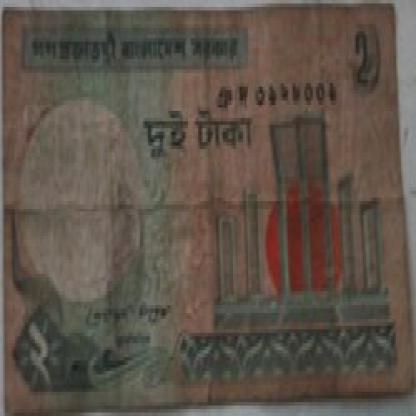two taka: (140, 104, 260, 170), (18, 298, 62, 381)
